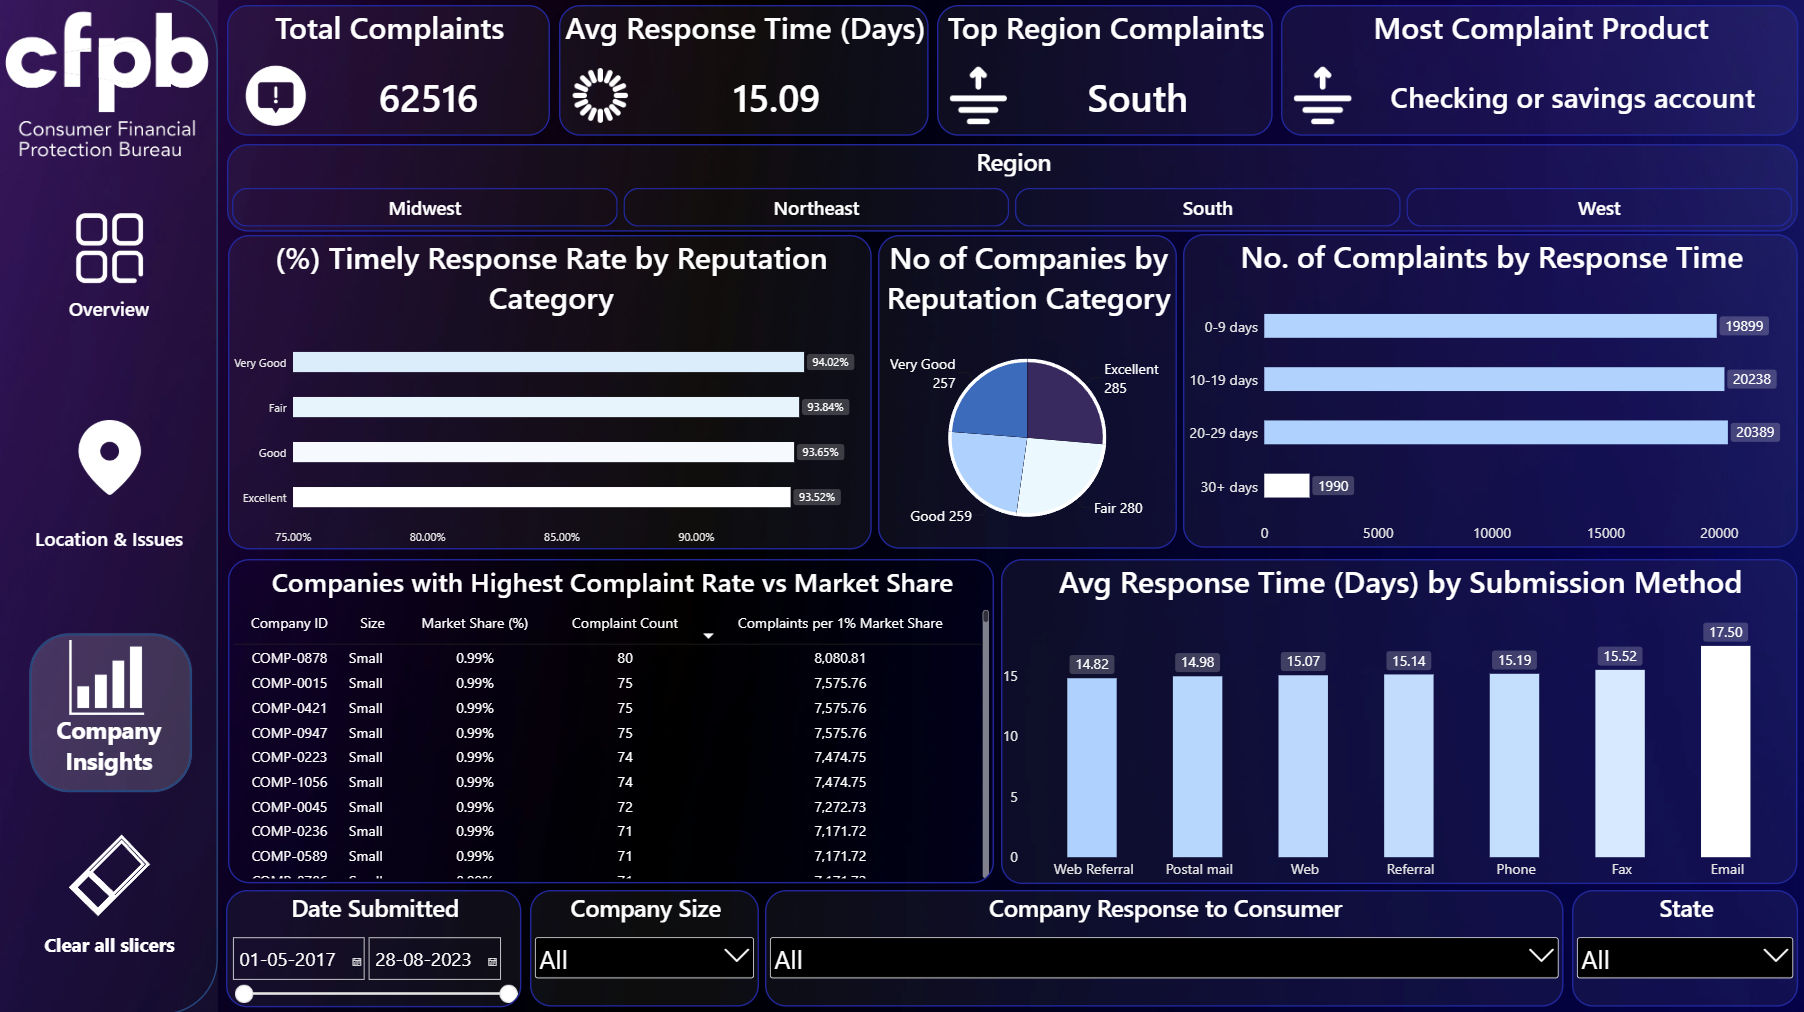

What the dashboard file says about the page in this screenshot:
{"tool":"powerbi","page":{"name":"Company Insights","canvas":[2560,1440],"ordinal":2},"visuals":[{"type":"shape","box":[0,0,314.1,1440.2],"z":0},{"type":"shape","box":[44.7,898.6,234,228.7],"z":1000},{"type":"pageNavigator","box":[30.1,249,260.1,878.7],"z":2000},{"type":"image","box":[0,11.1,314.1,223.6],"z":3000},{"type":"image","box":[101.5,598,117.4,106.3],"z":4000},{"type":"image","box":[101.5,304.5,117.4,106.3],"z":5000},{"type":"image","box":[98.3,910.4,117.4,106.3],"z":6000},{"type":"cardVisual","title":"Total Complaints","fields":{"Data":["DAX Measures.Total Complaints"]},"box":[326.7,11.7,456.7,185],"z":7000},{"type":"cardVisual","title":"Avg Response Time (Days)","fields":{"Data":["DAX Measures.Average Response Time (Days)"]},"box":[796.7,11.7,523.3,185],"z":8000},{"type":"cardVisual","title":"Top Region Complaints","fields":{"Data":["DAX Measures.Top Region by Complaints"]},"box":[1331.7,11.7,475,185],"z":9000},{"type":"cardVisual","title":"Most Complaint Product","fields":{"Data":["DAX Measures.Most Comman Complaint Product"]},"box":[1818,12,732,185],"z":10000},{"type":"slicer","title":"Date Submitted","fields":{"Values":["Complaints.Date submitted"]},"box":[326,1264,418,166],"z":11000},{"type":"slicer","title":"Company Response to Consumer","fields":{"Values":["Complaints.Company response to consumer"]},"box":[1088.3,1263.3,1130,165],"z":13000},{"type":"slicer","title":"State","fields":{"Values":["Complaints.State Full Name"]},"box":[2230,1263.3,320,165],"z":14000},{"type":"advancedSlicerVisual","title":"Region","fields":{"Values":["Complaints.Census_Region"]},"box":[327,208,2223,124],"z":15000},{"type":"actionButton","box":[43.3,1168.3,233.3,205],"z":16000},{"type":"clusteredBarChart","title":"No. of Complaints by Response Time","fields":{"Category":["Complaints.Response Time Bucket"],"Y":["DAX Measures.Total Complaints"]},"box":[1680,336,870,444],"z":17000},{"type":"clusteredBarChart","title":"(%) Timely Response Rate by Reputation Category","fields":{"Category":["Company.Reputation Category"],"Y":["DAX Measures.Average Timely Response Rate"]},"box":[328.8,336.2,911.2,445],"z":18000},{"type":"pieChart","title":"No of Companies by Reputation Category","fields":{"Category":["Company.Reputation Category"],"Y":["Count(Company.Company_ID_1081)"]},"box":[1248.8,336.2,422.5,443.8],"z":19000},{"type":"tableEx","title":"Companies with Highest Complaint Rate vs Market Share","fields":{"Values":["Company.Company_ID_1081","Company.Company_Size_Tier","Company.Market_Share_Percent","Company.Complaint_Count","Company.Complaints_per_1pct_Share"]},"box":[328,796,1084,459],"z":20000},{"type":"clusteredColumnChart","title":"Avg Response Time (Days) by Submission Method","fields":{"Category":["Complaints.Submitted via"],"Y":["Avg(Complaints.Response_Time_Days)"]},"box":[1422.9,795.7,1127.1,460],"z":21000},{"type":"slicer","title":"Company Size","fields":{"Values":["Company.Company_Size_Tier"]},"box":[755,1263.8,323.8,165],"z":21001}]}

Visuals, with their boxes in screenshot pixels (x1, y1, x2, y2), scaled from the page's 2560x1440 canvas onto the 1804x1012 screenshot:
shape: region(0, 0, 221, 1011)
shape: region(31, 632, 196, 792)
pageNavigator: region(21, 175, 205, 793)
image: region(0, 8, 221, 165)
image: region(72, 420, 154, 495)
image: region(72, 214, 154, 289)
image: region(69, 640, 152, 715)
"Total Complaints" cardVisual: region(230, 8, 552, 138)
"Avg Response Time (Days)" cardVisual: region(561, 8, 930, 138)
"Top Region Complaints" cardVisual: region(938, 8, 1273, 138)
"Most Complaint Product" cardVisual: region(1281, 8, 1797, 138)
"Date Submitted" slicer: region(230, 888, 524, 1005)
"Company Response to Consumer" slicer: region(767, 888, 1563, 1004)
"State" slicer: region(1571, 888, 1797, 1004)
"Region" advancedSlicerVisual: region(230, 146, 1797, 233)
actionButton: region(31, 821, 195, 965)
"No. of Complaints by Response Time" clusteredBarChart: region(1184, 236, 1797, 548)
"(%) Timely Response Rate by Reputation Category" clusteredBarChart: region(232, 236, 874, 549)
"No of Companies by Reputation Category" pieChart: region(880, 236, 1178, 548)
"Companies with Highest Complaint Rate vs Market Share" tableEx: region(231, 559, 995, 882)
"Avg Response Time (Days) by Submission Method" clusteredColumnChart: region(1003, 559, 1797, 882)
"Company Size" slicer: region(532, 888, 760, 1004)
